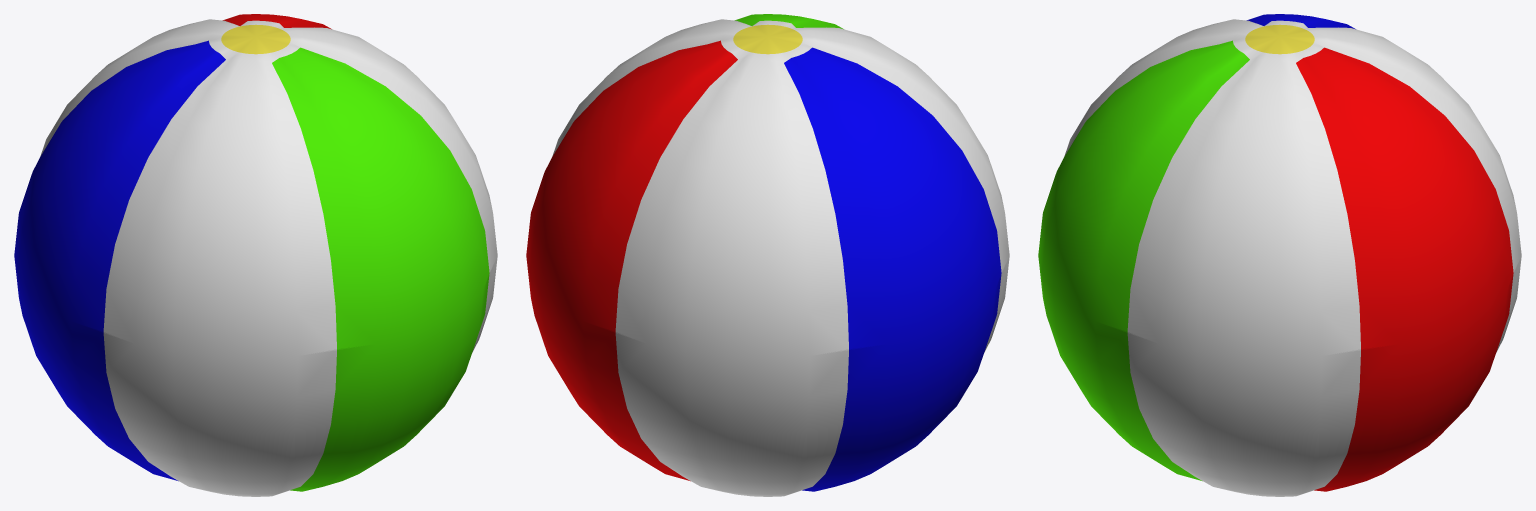
Rendered from strandbal2.fbx.
The picture shows the model from 3 angles, left to right: view 1: azimuth 30°, elevation 25°; view 2: azimuth 150°, elevation 25°; view 3: azimuth 270°, elevation 25°; orthographic projection.
Visible parts, largest first — view 1: Sphere; view 2: Sphere; view 3: Sphere.
Part boxes in pixels (x1,y1,x2,y2): Sphere: (14, 14, 497, 496); Sphere: (526, 14, 1009, 496); Sphere: (1038, 14, 1521, 496).
Bounding box in the file's own units: 2 × 2 × 2.
